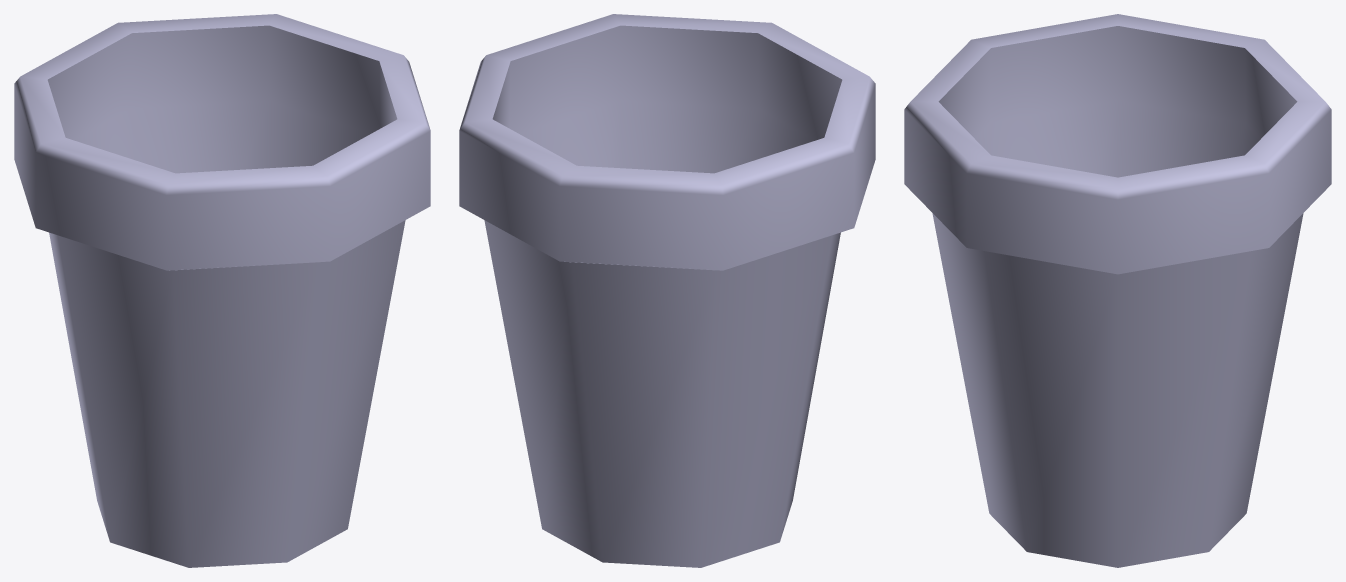
Rendered from Friday_PlainCup.fbx.
3 renders of one model, left to right at view 1: azimuth 30°, elevation 25°; view 2: azimuth 150°, elevation 25°; view 3: azimuth 270°, elevation 25°, orthographic.
Visible parts, largest first — view 1: Cup; view 2: Cup; view 3: Cup.
Boxes of the visible parts, x1,y1,x2,y2 form: Cup: (14,14,430,567); Cup: (459,14,875,567); Cup: (904,14,1331,567).
Bounding box in the file's own units: 37.47 × 39.82 × 37.47.
